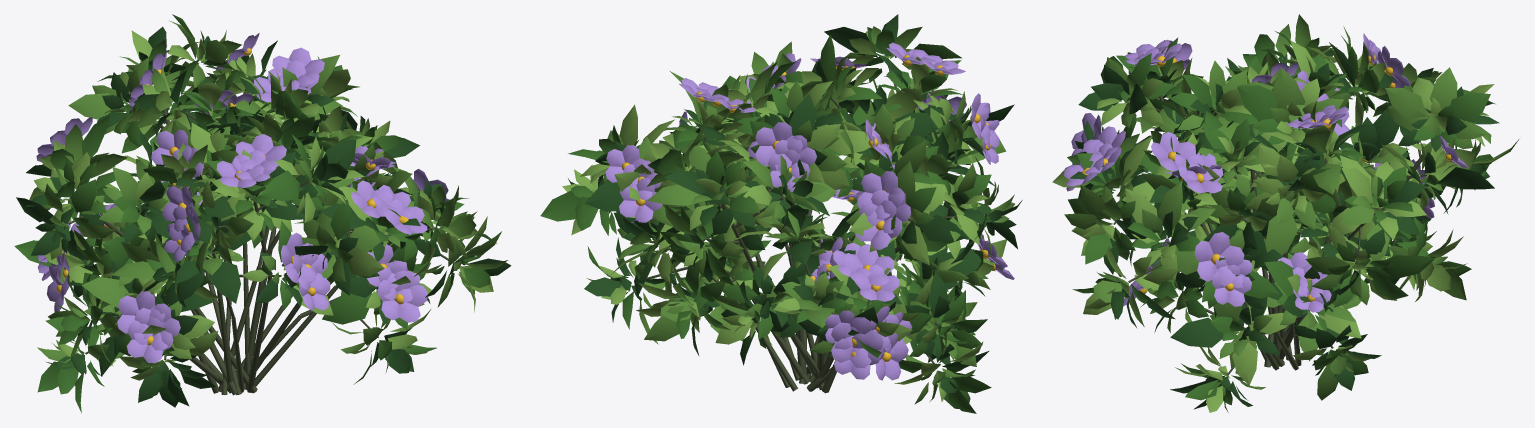
Rendered from shrub-04-purple.glb.
The picture shows the model from 3 angles, left to right: view 1: azimuth 30°, elevation 25°; view 2: azimuth 150°, elevation 25°; view 3: azimuth 270°, elevation 25°; orthographic projection. The views are drawn at different scales.
Visible parts, largest first — view 1: foliage-3, foliage-1, foliage-2, foliage-4, flowers, branches, flower-centers; view 2: foliage-1, foliage-3, foliage-4, foliage-2, flowers, branches, flower-centers; view 3: foliage-3, foliage-4, foliage-2, foliage-1, flowers, branches, flower-centers.
Boxes of the visible parts, left/top/right/bottom form: foliage-3: left=37, top=20, right=508, bottom=374; foliage-1: left=16, top=26, right=511, bottom=407; foliage-2: left=14, top=14, right=496, bottom=413; foliage-4: left=29, top=30, right=493, bottom=380; flowers: left=36, top=33, right=449, bottom=363; branches: left=68, top=63, right=452, bottom=395; flower-centers: left=56, top=48, right=423, bottom=345; foliage-1: left=568, top=14, right=1022, bottom=393; foliage-3: left=586, top=26, right=1014, bottom=404; foliage-4: left=562, top=31, right=1014, bottom=401; foliage-2: left=540, top=27, right=998, bottom=413; flowers: left=605, top=42, right=1014, bottom=380; branches: left=646, top=66, right=957, bottom=393; flower-centers: left=621, top=54, right=996, bottom=361; foliage-3: left=1064, top=14, right=1518, bottom=400; foliage-4: left=1052, top=40, right=1494, bottom=412; foliage-2: left=1067, top=31, right=1492, bottom=405; foliage-1: left=1069, top=39, right=1499, bottom=412; flowers: left=1064, top=33, right=1468, bottom=312; branches: left=1113, top=91, right=1426, bottom=375; flower-centers: left=1081, top=55, right=1451, bottom=301.
Bounding box in the file's own units: 1.15 × 0.8264 × 1.13.
